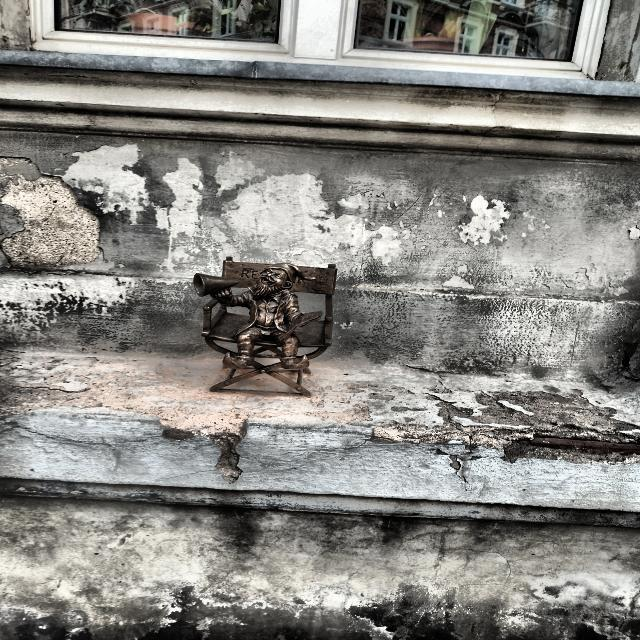Rezyser: (193, 258, 337, 396)
